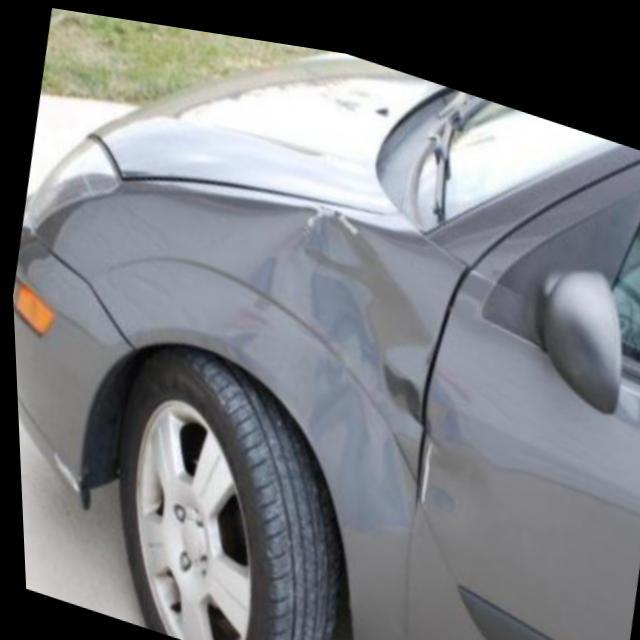dent: (205, 196, 432, 526)
